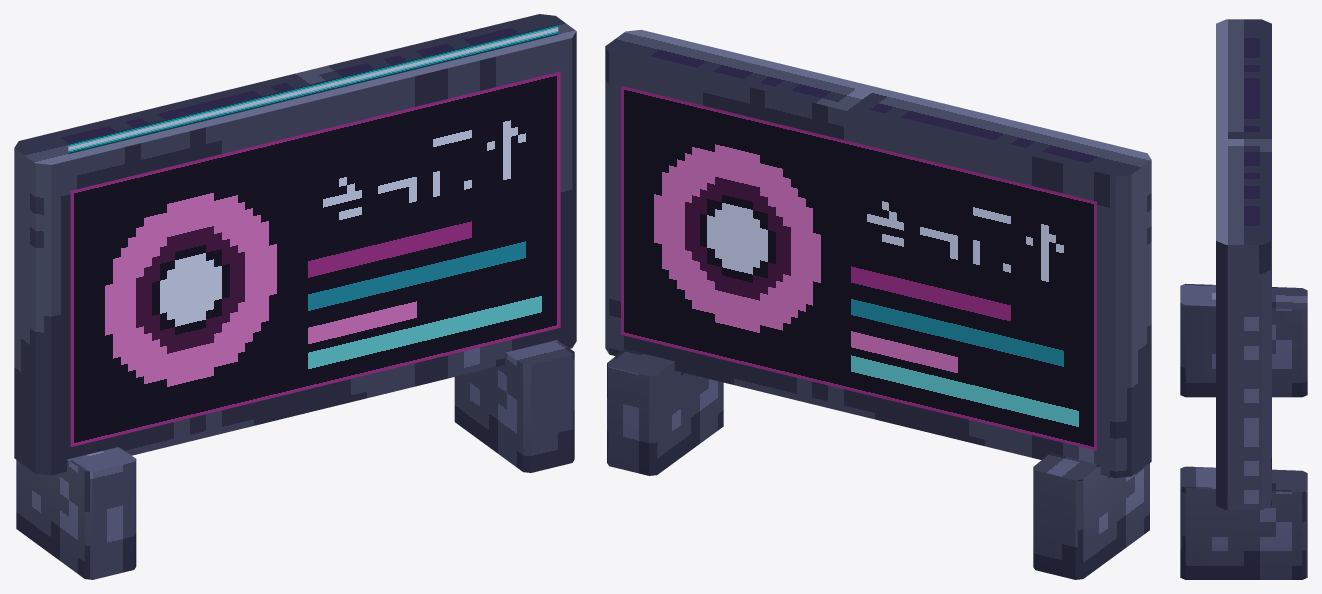
The model's file is cysign.adpanel.glb.
3 renders of one model, left to right at view 1: azimuth 30°, elevation 25°; view 2: azimuth 150°, elevation 25°; view 3: azimuth 270°, elevation 25°, orthographic. The views are drawn at different scales.
Parts seen in each view (by area): view 1: kit_card_faces, kit_frame; view 2: kit_card_faces, kit_frame; view 3: kit_frame.
Boxes of the visible parts, x1=… form: kit_card_faces: x1=68, y1=24, x2=560, y2=446; kit_frame: x1=14, y1=14, x2=576, y2=579; kit_card_faces: x1=621, y1=85, x2=1096, y2=450; kit_frame: x1=605, y1=29, x2=1151, y2=579; kit_frame: x1=1180, y1=19, x2=1307, y2=579.
Bounding box in the file's own units: 2.1 × 1.57 × 0.5.
4 materials, 4 textured.
